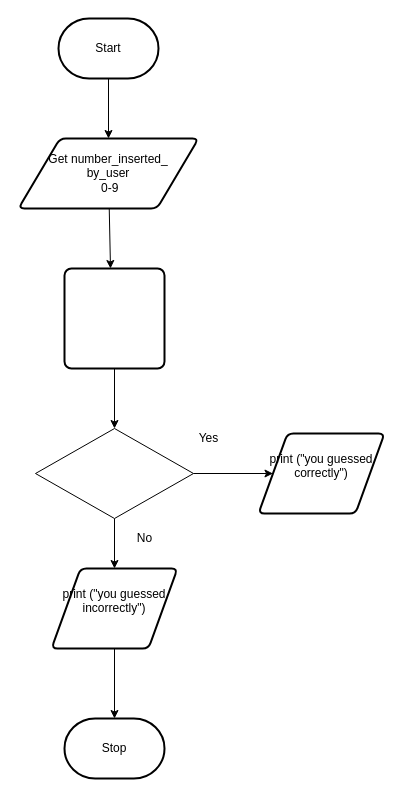
Some shapes in this 402 by 796 pixel diagram are drawn without their labels. The shapes that lost their labels are listed below. From the top down, each one's centre as x and y in pixels, then its label:
At point (114, 318): "Create a random number".
At point (114, 473): "If number_inserted_ by_user = secret_number".
